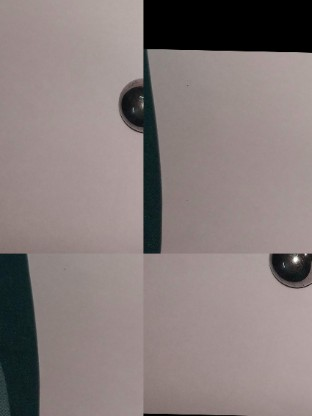ironball: (114, 72, 146, 136), (262, 252, 310, 291)
